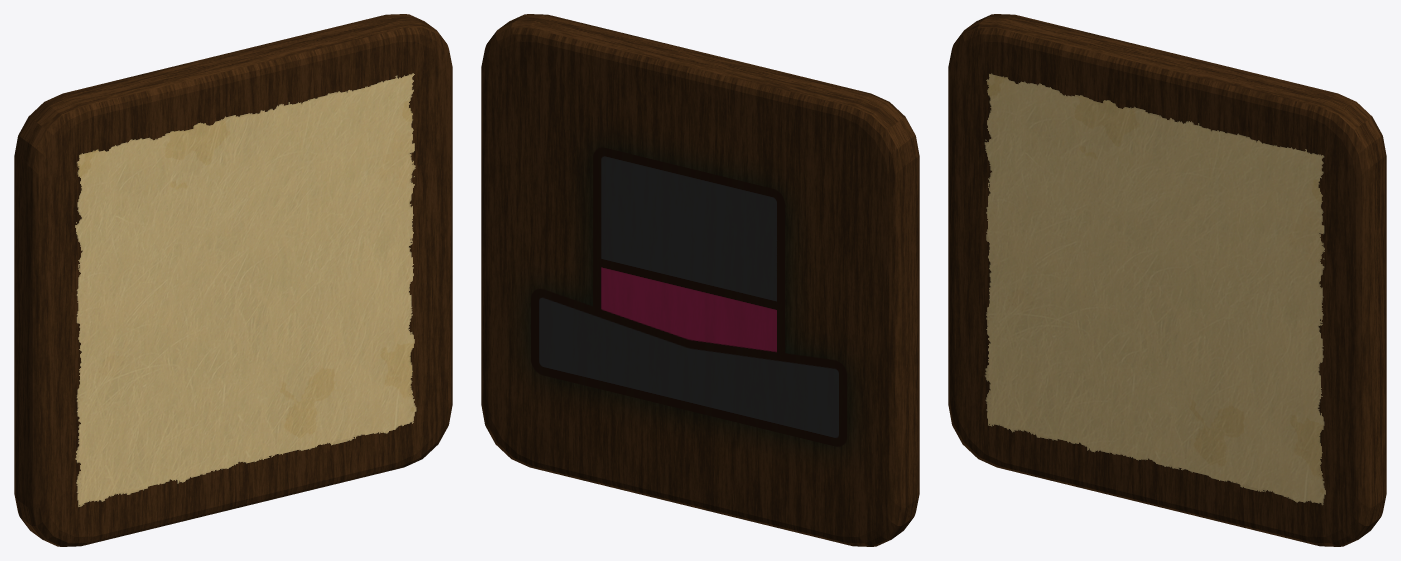
File: tile.fbx
3 renders of one model, left to right at view 1: azimuth 30°, elevation 25°; view 2: azimuth 150°, elevation 25°; view 3: azimuth 330°, elevation 25°, orthographic.
Visible parts, largest first — view 1: 立方体; view 2: 立方体; view 3: 立方体.
Boxes of the visible parts, x1,y1,x2,y2 form: 立方体: [14, 14, 452, 546]; 立方体: [481, 14, 919, 546]; 立方体: [948, 14, 1386, 546].
Bounding box in the file's own units: 2 × 2 × 0.2.
1 material, 1 textured.
